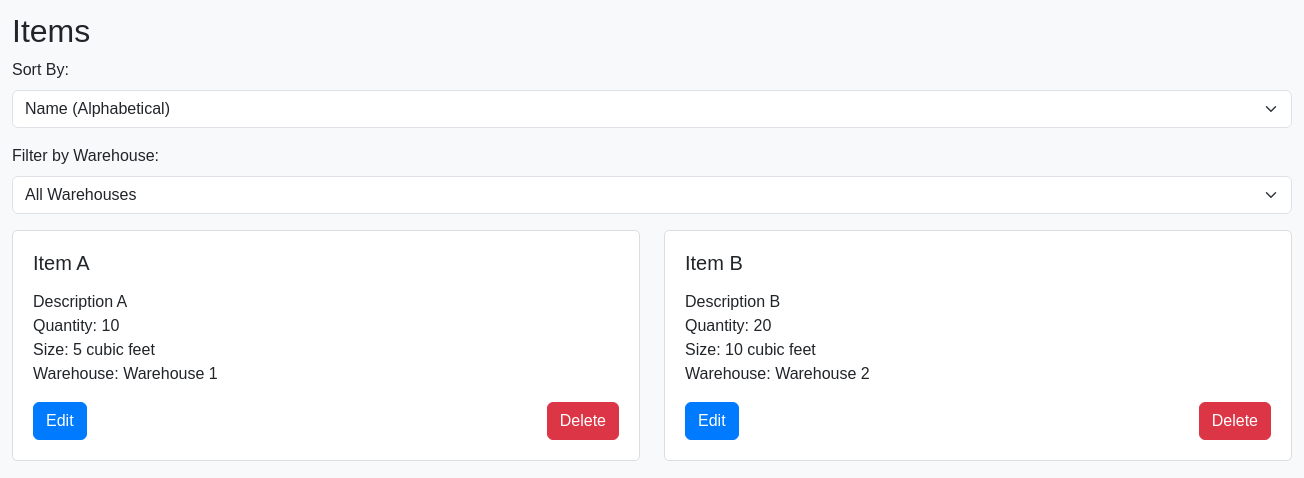
Test: ItemList › should filter items by warehouse
The image size is (1304, 478).
Select "Warehouse 1" in the dropdown labelled "Filter by Warehouse:" at point(652, 195), box [12,176,1292,214]
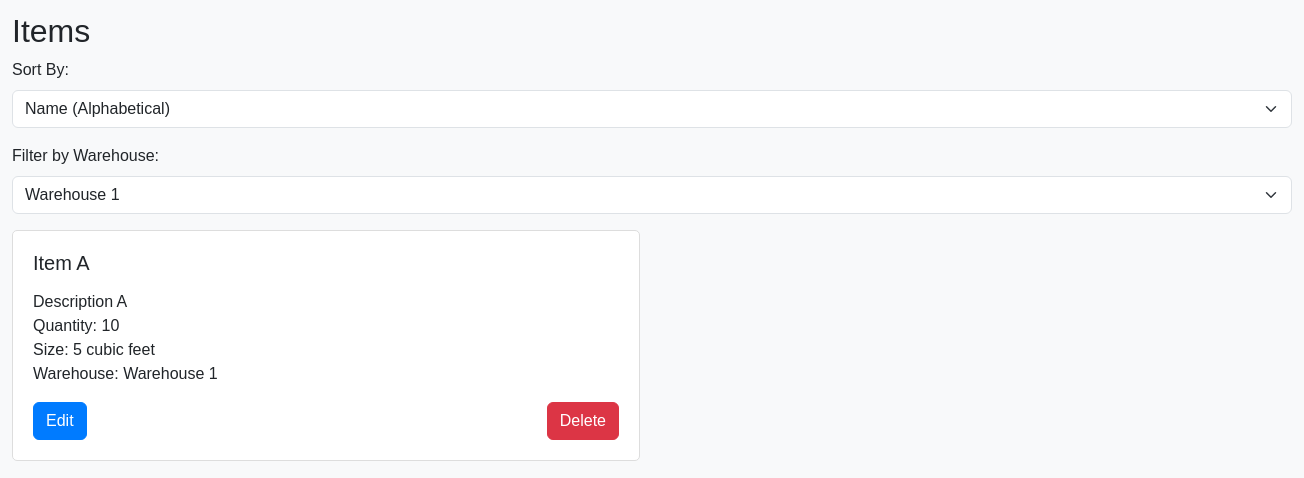
Expected: the heading "Item A" is shown, [33,252,90,274]
Result: the heading "Item B" is gone
